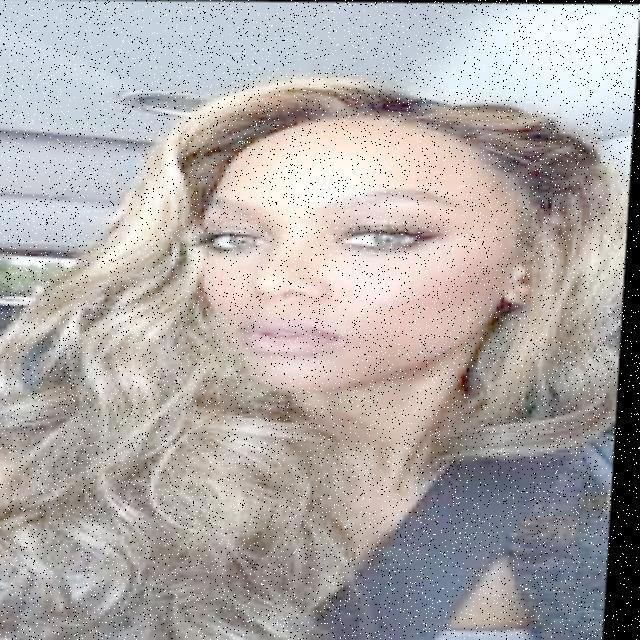seatbelt: (183, 397, 612, 640)
